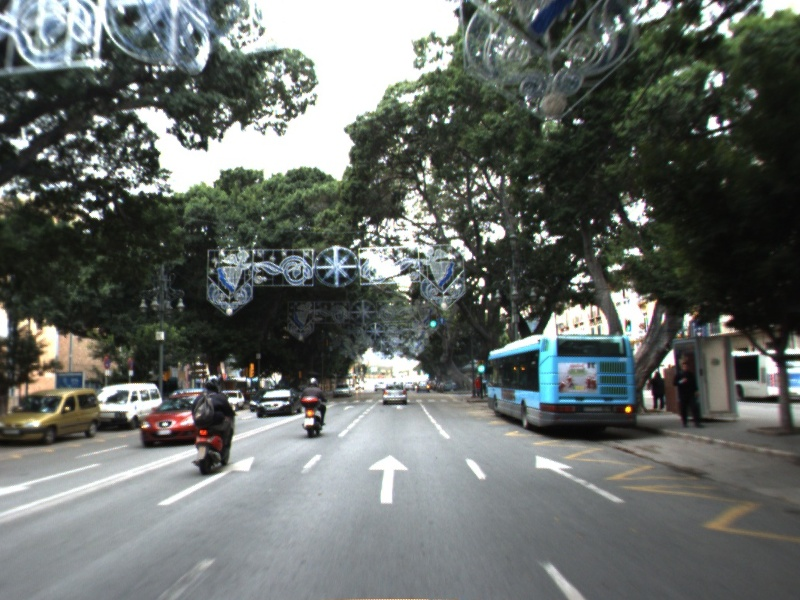STRAIGHT: (155, 454, 257, 507), (533, 453, 629, 505), (366, 452, 411, 507)
